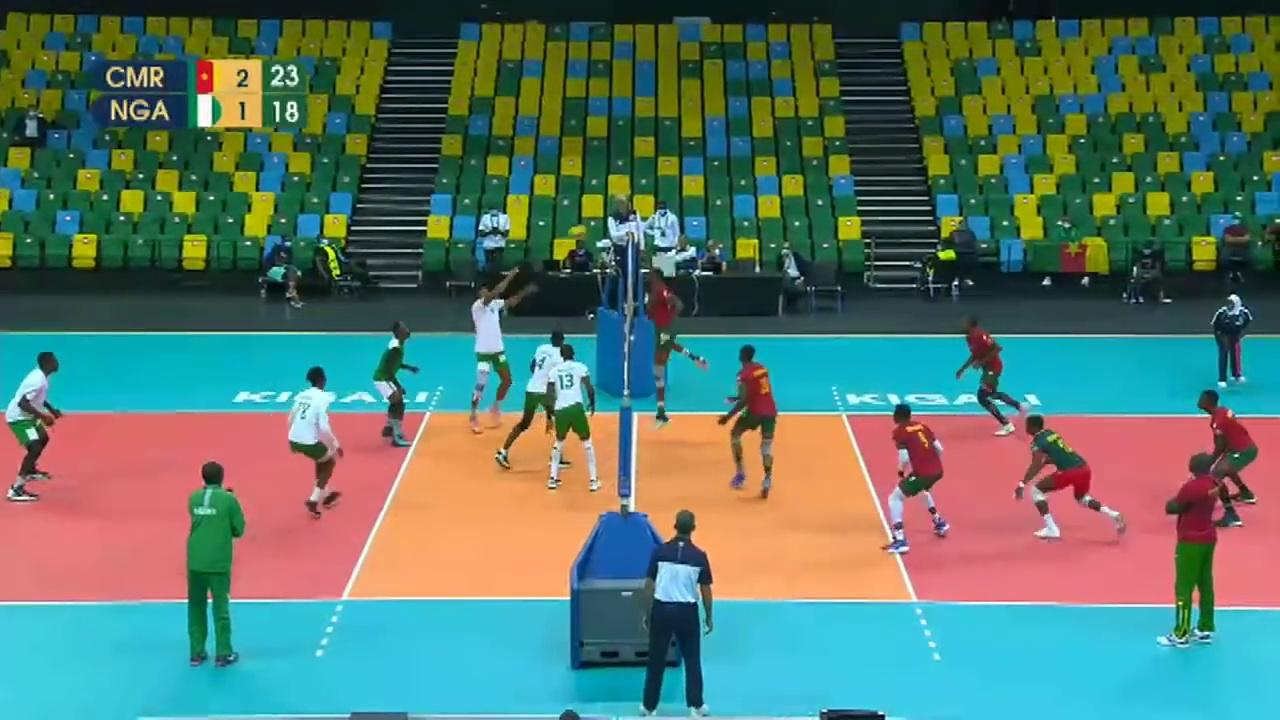player: (240, 370, 348, 513), (1018, 412, 1129, 540), (491, 332, 580, 476), (886, 406, 954, 549), (645, 269, 708, 421), (470, 273, 525, 442), (717, 347, 780, 493), (3, 354, 66, 497), (952, 316, 1028, 432), (543, 340, 598, 490), (1194, 392, 1255, 517), (370, 323, 424, 445)
refree: (636, 506, 717, 720), (603, 192, 646, 299), (1213, 292, 1254, 386)
